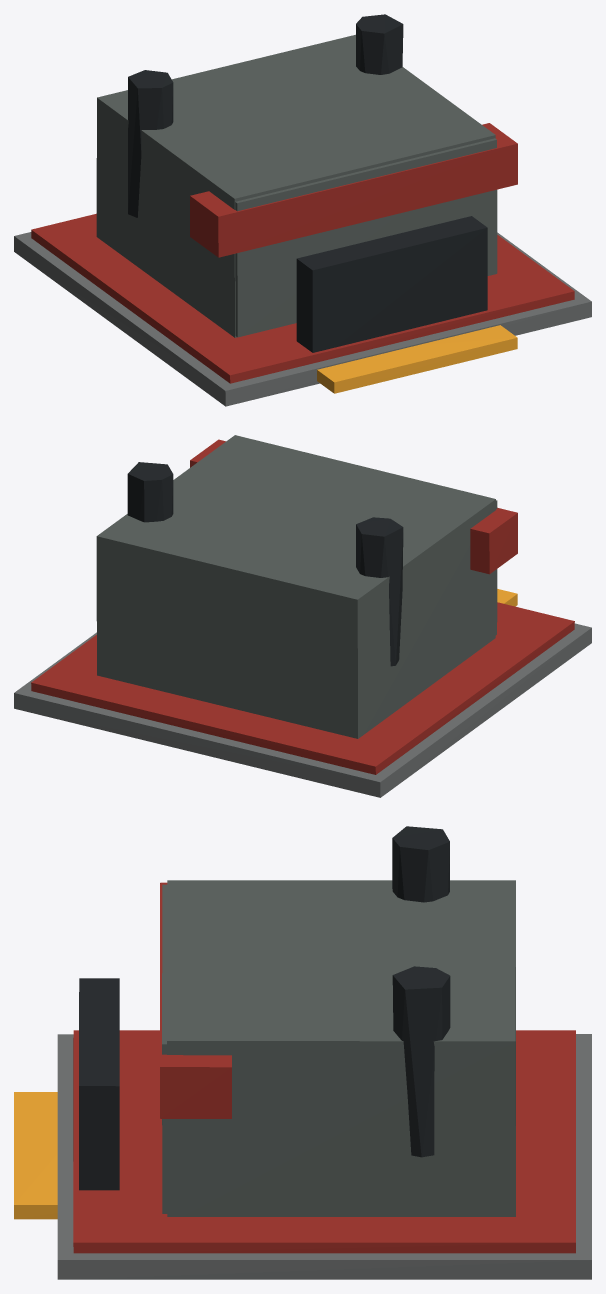
File: SM_Soviet_SU_WarFactory_LOD3.fbx
3 renders of one model, top to bottom at view 1: azimuth 30°, elevation 25°; view 2: azimuth 150°, elevation 25°; view 3: azimuth 270°, elevation 25°, orthographic. The views are drawn at different scales.
Parts seen in each view (by area): view 1: LOD03_SM_Soviet_SU_WarFactory; view 2: LOD03_SM_Soviet_SU_WarFactory; view 3: LOD03_SM_Soviet_SU_WarFactory.
Boxes of the visible parts, x1,y1,x2,y2 form: LOD03_SM_Soviet_SU_WarFactory: (14,14,591,406); LOD03_SM_Soviet_SU_WarFactory: (14,435,591,797); LOD03_SM_Soviet_SU_WarFactory: (14,826,591,1279).
Bounding box in the file's own units: 797 × 862 × 426.
